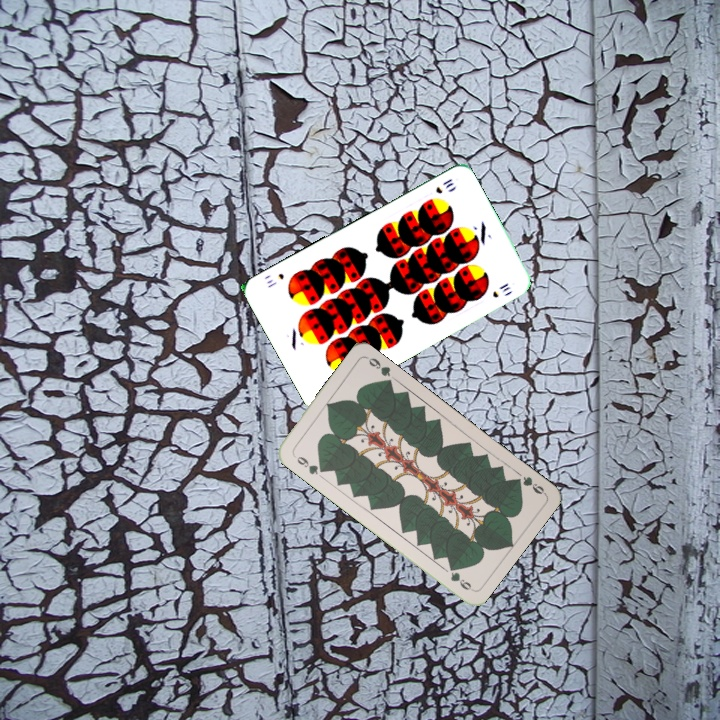G9: (289, 450, 327, 477), (509, 472, 548, 497)
S10: (431, 174, 456, 196)
